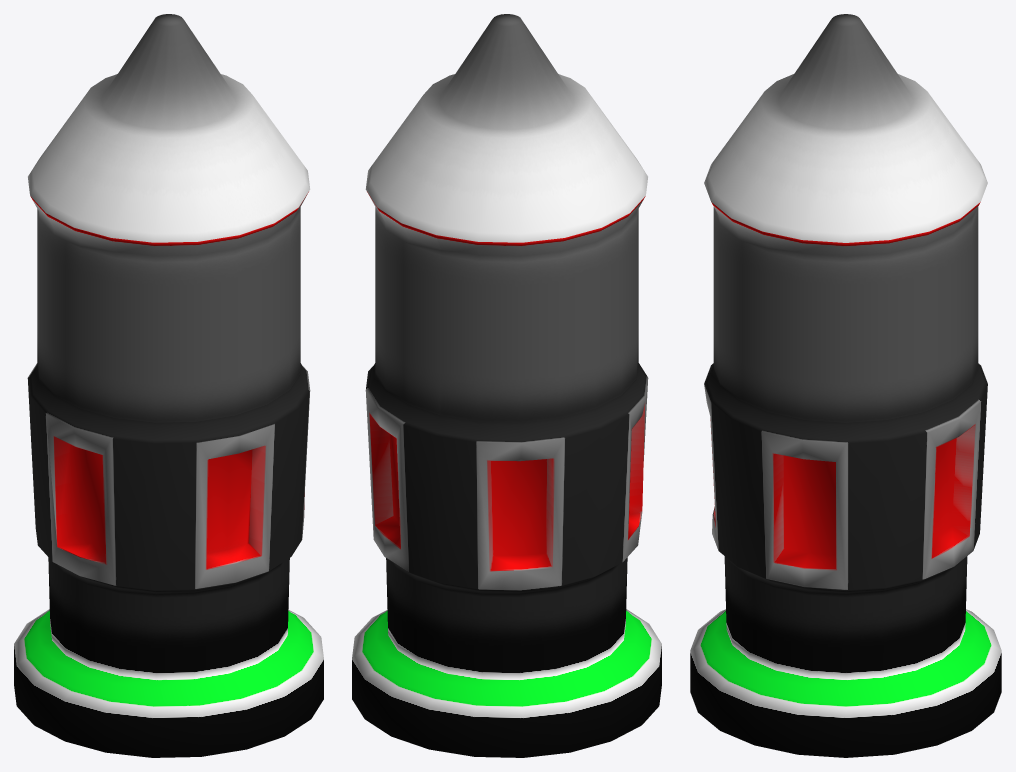
Rendered from Rocket.fbx.
3 views of the same model, side by side, from view 1: azimuth 30°, elevation 25°; view 2: azimuth 150°, elevation 25°; view 3: azimuth 270°, elevation 25° (orthographic).
Parts seen in each view (by area): view 1: pCylinder1; view 2: pCylinder1; view 3: pCylinder1.
Part boxes in pixels (<box>): pCylinder1: <box>14,14,323,757</box>; pCylinder1: <box>352,14,661,757</box>; pCylinder1: <box>690,14,1001,757</box>.
Bounding box in the file's own units: 10.89 × 25.95 × 10.89.
